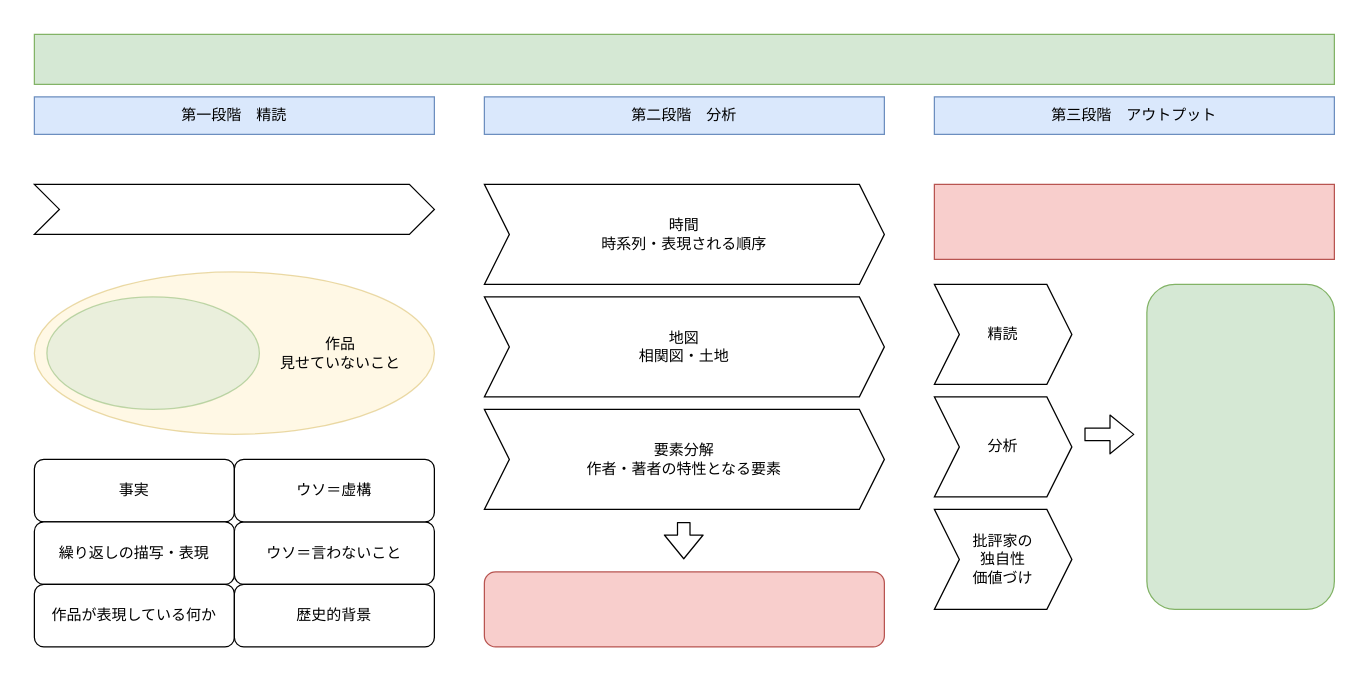
Some shapes in this 1368 by 680 pixel diagram are drawn without their labels. Each missing label, with the box of its shape:
作品 見せていること: (46, 296, 259, 409)
価値づけ 成功価値：独創性・斬新さ 受容価値：惹かれてしまうもの: (483, 571, 884, 647)
批評 良いところを認め 悪いところを見る 価値づけの経緯を記す: (1146, 283, 1334, 609)
批評というもの自体が芸術なんだ。 オスカー・ワイルド『芸術家としての批評 』: (933, 183, 1334, 259)
批評の教室 批評の3段階: (33, 33, 1334, 84)
精読 （クロース・リーディング）: (33, 183, 434, 234)
